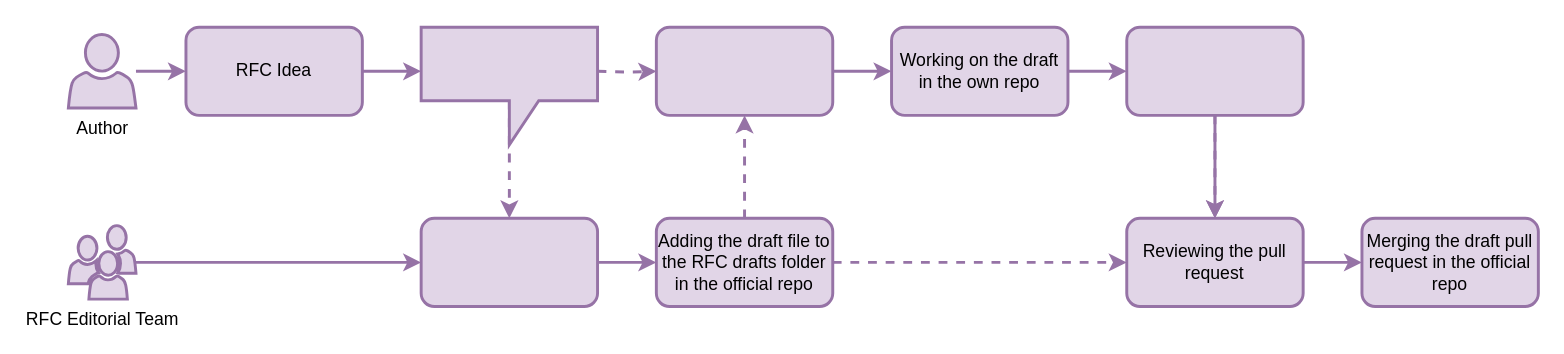
This 1564x354 diagram has some shape labels left out. The centre of each missing label's shape, as x and y in pixels:
Create pull request to the official repo: point 1214,70
Discussing idea with the RFC Editorial Team: point 508,85
Forking the official repo: point 743,70
RFC Identifier assignment: point 508,261
